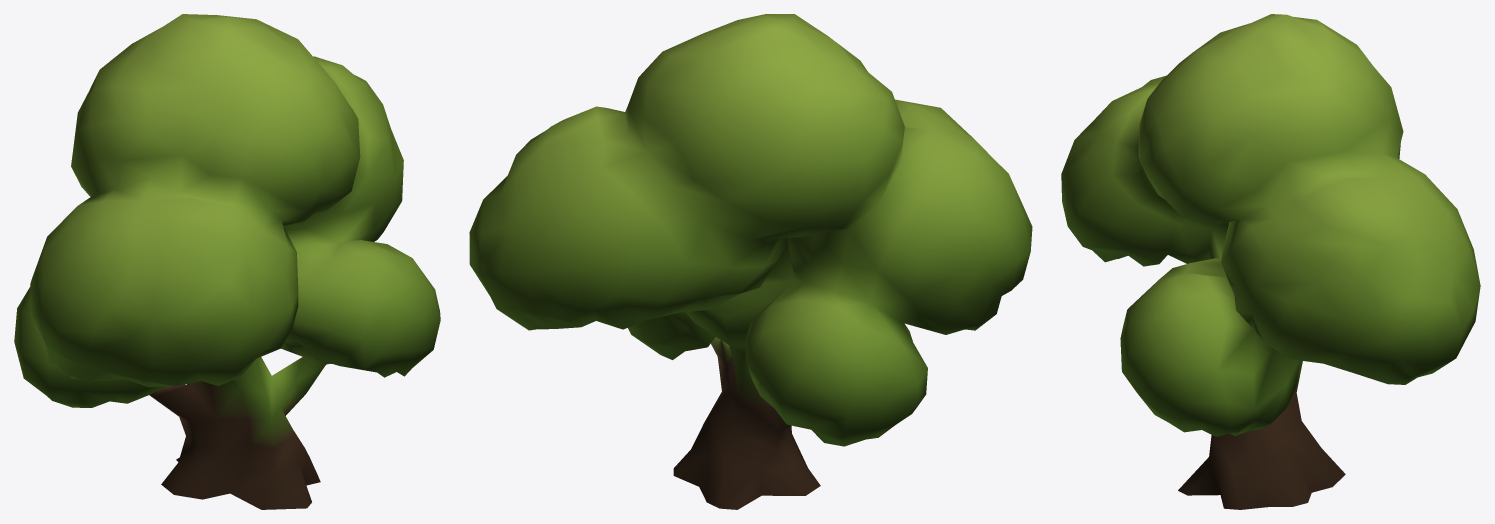
File: tree_a.glb
3 views of the same model, side by side, from view 1: azimuth 30°, elevation 25°; view 2: azimuth 150°, elevation 25°; view 3: azimuth 270°, elevation 25° (orthographic). The views are drawn at different scales.
Visible parts, largest first — view 1: tree; view 2: tree; view 3: tree.
Boxes of the visible parts, x1,y1,x2,y2 form: tree: (14, 14, 440, 509); tree: (469, 14, 1032, 509); tree: (1061, 14, 1480, 509).
Bounding box in the file's own units: 3.16 × 3.2 × 2.69.
